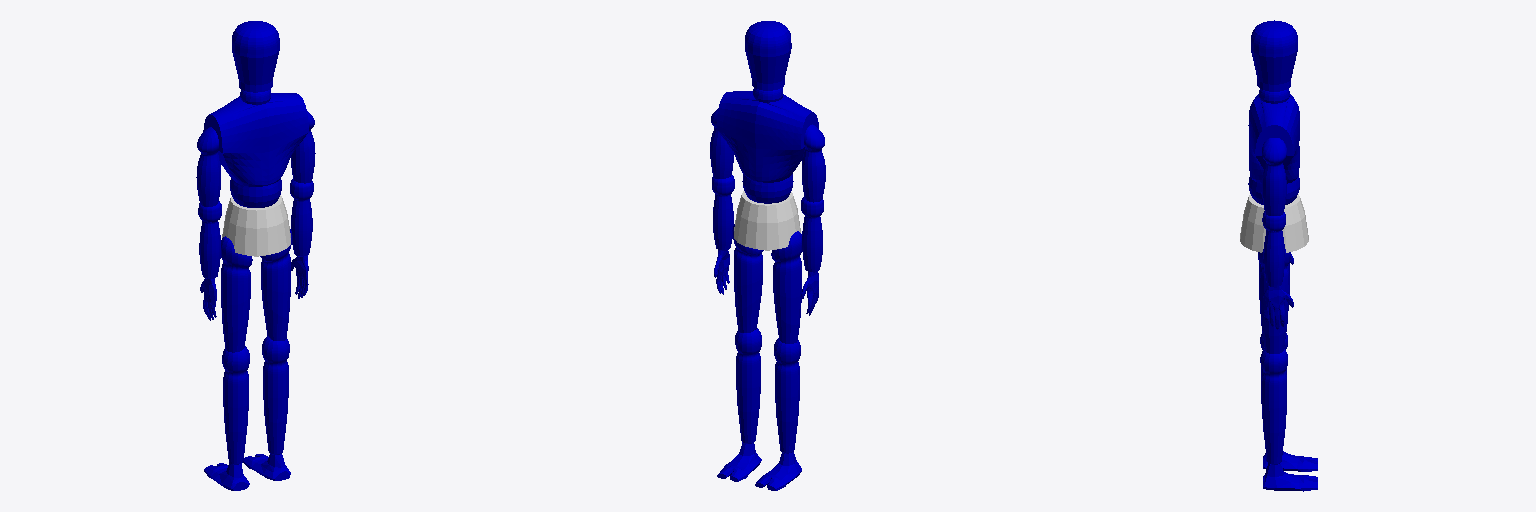
--- Facts derived from the render (not from the file) ---
3 views of the same robot in one strip: view 1: azimuth 30°, elevation 25°; view 2: azimuth 150°, elevation 25°; view 3: azimuth 270°, elevation 25° (orthographic).
Robot: human_cio — 49 links, 48 joints (8 revolute, 39 continuous, 1 fixed); root link root_link; default pose: all joints at 0.
Links seen in each view (by area): view 1: torso_x_link, head_x_link, pelvis_link, upper_left_leg_x_link, lower_right_leg_link, lower_left_leg_link, upper_right_leg_x_link, upper_left_arm_x_link, lower_right_arm_link, lower_left_arm_link, upper_right_arm_x_link, right_foot_z_link (+1 smaller); view 2: torso_x_link, head_x_link, pelvis_link, upper_left_leg_x_link, lower_right_leg_link, lower_left_leg_link, upper_right_leg_x_link, upper_left_arm_x_link, lower_right_arm_link, lower_left_arm_link, upper_right_arm_x_link, left_foot_z_link (+1 smaller); view 3: torso_x_link, head_x_link, lower_right_leg_link, pelvis_link, upper_right_arm_x_link, lower_right_arm_link, upper_right_leg_x_link, right_foot_z_link, right_hand_x_link, left_foot_z_link.
Link boxes in pixels (x1,y1,x2,y2): torso_x_link: (203,93,308,207); head_x_link: (232,21,279,104); pelvis_link: (222,195,290,256); upper_left_leg_x_link: (221,236,252,352); lower_right_leg_link: (262,337,289,454); lower_left_leg_link: (222,346,249,464); upper_right_leg_x_link: (260,229,291,340); upper_left_arm_x_link: (196,127,220,206); lower_right_arm_link: (290,179,313,256); lower_left_arm_link: (198,201,221,278); upper_right_arm_x_link: (291,111,315,183); right_foot_z_link: (243,454,290,480); torso_x_link: (716,91,818,203); head_x_link: (745,21,791,102); pelvis_link: (734,191,800,250); upper_left_leg_x_link: (771,231,801,343); lower_right_leg_link: (735,328,761,443); lower_left_leg_link: (774,338,800,453); upper_right_leg_x_link: (732,224,763,332); upper_left_arm_x_link: (802,124,825,202); lower_right_arm_link: (712,175,734,250); lower_left_arm_link: (801,197,823,272); upper_right_arm_x_link: (710,109,733,178); left_foot_z_link: (755,452,801,490); torso_x_link: (1248,94,1299,204); head_x_link: (1251,20,1297,103); lower_right_leg_link: (1260,348,1287,464); pelvis_link: (1240,194,1308,252); upper_right_arm_x_link: (1262,138,1286,215); lower_right_arm_link: (1262,211,1285,287); upper_right_leg_x_link: (1258,249,1290,353); right_foot_z_link: (1263,463,1317,491); right_hand_x_link: (1263,285,1293,329); left_foot_z_link: (1263,451,1317,471).
Bounding box of the posed robot: 0.582 × 0.3519 × 2.2 m (x, y, z).
15 mesh visuals loaded from 15 distinct referenced files (15 Collada DAE).

robot.urdf — human_cio:
<?xml version="1.0" ?>
<!-- =================================================================================== -->
<!-- |    This document was autogenerated by xacro from human_cio.urdf.xacro           | -->
<!-- |    EDITING THIS FILE BY HAND IS NOT RECOMMENDED                                 | -->
<!-- =================================================================================== -->
<robot name="human_cio" xmlns:controller="http://playerstage.sourceforge.net/gazebo/xmlschema/#controller" xmlns:interface="http://playerstage.sourceforge.net/gazebo/xmlschema/#interface" xmlns:sensor="http://playerstage.sourceforge.net/gazebo/xmlschema/#sensor" xmlns:xacro="http://playerstage.sourceforge.net/gazebo/xmlschema/#interface">
  <material name="Blue">
    <color rgba="0.0 0.0 0.8 1.0"/>
  </material>
  <material name="Green">
    <color rgba="0.0 0.8 0.0 1.0"/>
  </material>
  <material name="Grey">
    <color rgba="0.7 0.7 0.7 1.0"/>
  </material>
  <material name="Grey2">
    <color rgba="0.9 0.9 0.9 1.0"/>
  </material>
  <material name="Red">
    <color rgba="0.8 0.0 0.0 1.0"/>
  </material>
  <material name="White">
    <color rgba="1.0 1.0 1.0 1.0"/>
  </material>
  <material name="Black">
    <color rgba="0.1 0.1 0.1 1.0"/>
  </material>
  <material name="LightGrey">
    <color rgba="0.6 0.6 0.6 1.0"/>
  </material>
  <link name="root_link"/>

  <joint name="root_dummy_joint" type="fixed">
    <parent link="root_link"/>
    <child link="pelvis_link"/>
  </joint>

  <link name="pelvis_link">
    <visual>
      <origin rpy="0 0 0" xyz="0 0 0"/>
      <geometry>
        <mesh filename="package://human_description/meshes/pelvis.dae"/>
      </geometry>
      <material name="Grey2"/>
    </visual>
    <collision>
      <origin rpy="0 0 0" xyz="0 0 0"/>
      <geometry>
        <mesh filename="package://human_description/meshes/collision/pelvis.dae"/>
      </geometry>
    </collision>
    <inertial>
      <mass value="24.9873014159"/>
      <inertia ixx="0.219399825" ixy="0.0" ixz="0.0" iyy="0.21939959375" iyz="0.0" izz="0.22992248625"/>
      <origin xyz="0 0 0.0983925"/>
    </inertial>
  </link>
  <joint name="torso_z_joint" type="continuous">
    <axis xyz="0 0 1"/>
    <limit effort="15" lower="-0.7" upper="0.7" velocity="5"/>
    <origin rpy="0 0 0" xyz="0 0 0.26"/>
    <parent link="pelvis_link"/>
    <child link="torso_z_link"/>
  </joint>
  <joint name="torso_y_joint" type="continuous">
    <axis xyz="0 1 0"/>
    <limit effort="15" lower="-0.3" upper="0.3" velocity="5"/>
    <origin rpy="0 0 0" xyz="0 0 0"/>
    <parent link="torso_z_link"/>
    <child link="torso_y_link"/>
  </joint>
  <joint name="torso_x_joint" type="continuous">
    <axis xyz="1 0 0"/>
    <limit effort="15" lower="-1.0" upper="0" velocity="5"/>
    <origin rpy="0 0 0" xyz="0 0 0"/>
    <parent link="torso_y_link"/>
    <child link="torso_x_link"/>
  </joint>
  <link name="torso_z_link">
    <inertial>
      <mass value="0"/>
      <inertia ixx="1" ixy="0" ixz="0" iyy="1" iyz="0" izz="0"/>
      <origin xyz="0 0 0"/>
    </inertial>
  </link>
  <link name="torso_y_link">
    <inertial>
      <mass value="0"/>
      <inertia ixx="1" ixy="0" ixz="0" iyy="1" iyz="0" izz="0"/>
      <origin xyz="0 0 0"/>
    </inertial>
  </link>
  <link name="torso_x_link">
    <visual>
      <origin rpy="0 0 0" xyz="0 0 0"/>
      <geometry>
        <mesh filename="package://human_description/meshes/torso.dae"/>
      </geometry>
      <material name="Blue"/>
    </visual>
    <collision>
      <origin rpy="0 0 0" xyz="0 0 0"/>
      <geometry>
        <mesh filename="package://human_description/meshes/collision/torso.dae"/>
      </geometry>
    </collision>
    <inertial>
      <mass value="54.1902903318"/>
      <inertia ixx="1.0895931125" ixy="0.0" ixz="0" iyy="1.4490895525" iyz="0.0" izz="0.679463005"/>
      <origin xyz="0 0 0.22608234"/>
    </inertial>
  </link>
  <joint name="head_z_joint" type="continuous">
    <axis xyz="0 0 1"/>
    <limit effort="15" lower="-1.2" upper="1.2" velocity="5"/>
    <origin rpy="0 0 0" xyz="0 0 0.45"/>
    <parent link="torso_x_link"/>
    <child link="head_z_link"/>
  </joint>
  <joint name="head_y_joint" type="continuous">
    <axis xyz="0 1 0"/>
    <limit effort="15" lower="-0.8" upper="0.8" velocity="5"/>
    <origin rpy="0 0 0" xyz="0 0 0"/>
    <parent link="head_z_link"/>
    <child link="head_y_link"/>
  </joint>
  <joint name="head_x_joint" type="continuous">
    <axis xyz="1 0 0"/>
    <limit effort="15" lower="-1.57" upper="0.3" velocity="5"/>
    <origin rpy="0 0 0" xyz="0 0 0"/>
    <parent link="head_y_link"/>
    <child link="head_x_link"/>
  </joint>
  <link name="head_z_link">
    <inertial>
      <mass value="0"/>
      <inertia ixx="1" ixy="0" ixz="0" iyy="1" iyz="0" izz="0"/>
      <origin xyz="0 0 0"/>
    </inertial>
  </link>
  <link name="head_y_link">
    <inertial>
      <mass value="0"/>
      <inertia ixx="1" ixy="0" ixz="0" iyy="1" iyz="0" izz="0"/>
      <origin xyz="0 0 0"/>
    </inertial>
  </link>
  <link name="head_x_link">
    <visual>
      <origin rpy="0 0 0" xyz="0 0 0"/>
      <geometry>
        <mesh filename="package://human_description/meshes/head.dae"/>
      </geometry>
      <material name="Blue"/>
    </visual>
    <collision>
      <origin rpy="0 0 0" xyz="0 0 0"/>
      <geometry>
        <mesh filename="package://human_description/meshes/collision/head.dae"/>
      </geometry>
    </collision>
    <inertial>
      <mass value="16.0164526852"/>
      <inertia ixx="0.194835825625" ixy="0" ixz="0" iyy="0.194835733125" iyz="0" izz="0.06426014890625"/>
      <origin xyz="0.0 0.0 0.18566523"/>
    </inertial>
  </link>
  <joint name="head_endeffector_joint" type="continuous">
    <axis xyz="0 0 1"/>
    <limit effort="15" lower="-0.001" upper="0.001" velocity="5"/>
    <origin rpy="0 0 0" xyz="0 0 0.3"/>
    <parent link="head_x_link"/>
    <child link="head_endeffector_link"/>
  </joint>
  <link name="head_endeffector_link">
    <visual>
      <origin rpy="0 0 0" xyz="0 0 0"/>
      <geometry>
        <box size="0.001 0.001 0.001"/>
      </geometry>
      <material name="Blue"/>
    </visual>
    <collision>
      <origin rpy="0 0 0" xyz="0 0 0"/>
      <geometry>
        <box size="0.001 0.001 0.001"/>
      </geometry>
    </collision>
  </link>
  <joint name="upper_left_leg_z_joint" type="continuous">
    <axis xyz="0 0 1"/>
    <!--    <limit effort="15" lower="-1.57" upper="1.57" velocity="5"/>-->
    <limit effort="15" lower="-0.1" upper="1.57" velocity="5"/>
    <!--    <limit effort="15" lower="0" upper="0" velocity="5"/>-->
    <origin rpy="0 0 0" xyz="-0.1 0 0"/>
    <parent link="pelvis_link"/>
    <child link="upper_left_leg_z_link"/>
  </joint>
  <joint name="upper_left_leg_y_joint" type="continuous">
    <axis xyz="0 1 0"/>
    <!--    <limit effort="15" lower="-1.57" upper="1.57" velocity="5"/>-->
    <limit effort="15" lower="-0.1" upper="1.57" velocity="5"/>
    <!--    <limit effort="15" lower="0" upper="0" velocity="5"/>-->
    <origin rpy="0 0 0" xyz="0 0 0"/>
    <parent link="upper_left_leg_z_link"/>
    <child link="upper_left_leg_y_link"/>
  </joint>
  <joint name="upper_left_leg_x_joint" type="continuous">
    <axis xyz="1 0 0"/>
    <limit effort="15" lower="-1.2" upper="1.57" velocity="5"/>
    <origin rpy="0 0 0" xyz="0 0 0"/>
    <parent link="upper_left_leg_y_link"/>
    <child link="upper_left_leg_x_link"/>
  </joint>
  <link name="upper_left_leg_z_link">
    <inertial>
      <mass value="0"/>
      <inertia ixx="1" ixy="0" ixz="0" iyy="1" iyz="0" izz="0"/>
      <origin xyz="0 0 0"/>
    </inertial>
  </link>
  <link name="upper_left_leg_y_link">
    <inertial>
      <mass value="0"/>
      <inertia ixx="1" ixy="0" ixz="0" iyy="1" iyz="0" izz="0"/>
      <origin xyz="0 0 0"/>
    </inertial>
  </link>
  <link name="upper_left_leg_x_link">
    <visual>
      <origin rpy="0 0 0" xyz="0 0 0"/>
      <geometry>
        <mesh filename="package://human_description/meshes/upperLeftLeg.dae"/>
      </geometry>
      <material name="Blue"/>
    </visual>
    <collision>
      <origin rpy="0 0 0" xyz="0 0 0"/>
      <geometry>
        <mesh filename="package://human_description/meshes/collision/upperLeftLeg.dae"/>
      </geometry>
    </collision>
    <inertial>
      <mass value="11.28066677275"/>
      <inertia ixx="0.258606759375" ixy="0.0" ixz="0.0" iyy="0.258311314375" iyz="0" izz="0.021073428046875"/>
      <origin xyz="0 0 -0.19"/>
    </inertial>
  </link>
  <joint name="lower_left_leg_joint" type="continuous">
    <axis xyz="1 0 0"/>
    <limit effort="15" lower="-2.4" upper="0" velocity="5"/>
    <origin rpy="0 0 0" xyz="0 0 -0.5"/>
    <parent link="upper_left_leg_x_link"/>
    <child link="lower_left_leg_link"/>
  </joint>
  <link name="lower_left_leg_link">
    <visual>
      <origin rpy="0 0 0" xyz="0 0 0"/>
      <geometry>
        <mesh filename="package://human_description/meshes/lowerLeftLeg.dae"/>
      </geometry>
      <material name="Blue"/>
    </visual>
    <collision>
      <origin rpy="0 0 0" xyz="0 0 0"/>
      <geometry>
        <mesh filename="package://human_description/meshes/collision/lowerLeftLeg.dae"/>
      </geometry>
    </collision>
    <inertial>
      <mass value="8.394054321"/>
      <inertia ixx="0.1879741409375" ixy="0.0" ixz="0" iyy="0.1879741525" iyz="0" izz="0.01166299402353"/>
      <origin xyz="0.0 0 -0.20"/>
    </inertial>
  </link>
  <joint name="left_foot_x_joint" type="continuous">
    <axis xyz="1 0 0"/>
    <limit effort="15" lower="-1.57" upper="1.57" velocity="5"/>
    <!--    <limit effort="15" lower="-0.8" upper="0.6" velocity="5"/>-->
    <origin rpy="0 0 0" xyz="0 0 -0.52"/>
    <parent link="lower_left_leg_link"/>
    <child link="left_foot_x_link"/>
  </joint>
  <joint name="left_foot_y_joint" type="continuous">
    <axis xyz="0 1 0"/>
    <limit effort="15" lower="-1.57" upper="1.57" velocity="5"/>
    <!--    <limit effort="15" lower="0" upper="0" velocity="5"/>-->
    <origin rpy="0 0 0" xyz="0 0 0"/>
    <parent link="left_foot_x_link"/>
    <child link="left_foot_y_link"/>
  </joint>
  <joint name="left_foot_z_joint" type="continuous">
    <axis xyz="0 0 1"/>
    <!--    <limit effort="15" lower="-0.2" upper="0.2" velocity="5"/>-->
    <limit effort="15" lower="0" upper="0" velocity="5"/>
    <origin rpy="0 0 0" xyz="0 0 0"/>
    <parent link="left_foot_y_link"/>
    <child link="left_foot_z_link"/>
  </joint>
  <link name="left_foot_x_link">
    <inertial>
      <mass value="0"/>
      <inertia ixx="1" ixy="0" ixz="0" iyy="1" iyz="0" izz="0"/>
      <origin xyz="0 0 0"/>
    </inertial>
  </link>
  <link name="left_foot_y_link">
    <inertial>
      <mass value="0"/>
      <inertia ixx="1" ixy="0" ixz="0" iyy="1" iyz="0" izz="0"/>
      <origin xyz="0 0 0"/>
    </inertial>
  </link>
  <link name="left_foot_z_link">
    <visual>
      <origin rpy="0 0 0" xyz="0 0 0"/>
      <geometry>
        <mesh filename="package://human_description/meshes/leftFoot.dae"/>
      </geometry>
      <material name="Blue"/>
    </visual>
    <collision>
      <origin rpy="0 0 0" xyz="0 0 0"/>
      <geometry>
        <mesh filename="package://human_description/meshes/collision/leftFoot.dae"/>
      </geometry>
    </collision>
    <inertial>
      <mass value="2.24629475115"/>
      <inertia ixx="0.00997119431636" ixy="0" ixz="0.0" iyy="0.00325251065432" iyz="0.00" izz="0.01040399675772"/>
      <origin xyz="0 0 0"/>
    </inertial>
  </link>
  <joint name="left_foot_endeffector_joint" type="continuous">
    <axis xyz="0 0 1"/>
    <limit effort="15" lower="0" upper="0" velocity="5"/>
    <origin rpy="0 0 0" xyz="0 0 -0.1"/>
    <parent link="left_foot_z_link"/>
    <child link="left_foot_endeffector_link"/>
  </joint>
  <link name="left_foot_endeffector_link">
    <visual>
      <origin rpy="0 0 0" xyz="0 0 0"/>
      <geometry>
        <box size="0.001 0.001 0.001"/>
      </geometry>
      <material name="Blue"/>
    </visual>
    <inertial>
      <mass value="0"/>
      <inertia ixx="1" ixy="0" ixz="0" iyy="1" iyz="0" izz="0"/>
      <origin xyz="0 0 0"/>
    </inertial>
  </link>
  

  <joint name="upper_right_leg_z_joint" type="continuous">
    <axis xyz="0 0 1"/>
    <!--    <limit effort="15" lower="-1.57" upper="1.57" velocity="5"/>-->
    <limit effort="15" lower="-1.57" upper="0.1" velocity="5"/>
    <!--    <limit effort="15" lower="0" upper="0" velocity="5"/>-->
    <origin rpy="0 0 0" xyz="0.1 0 0"/>
    <parent link="pelvis_link"/>
    <child link="upper_right_leg_z_link"/>
  </joint>
  <joint name="upper_right_leg_y_joint" type="continuous">
    <axis xyz="0 1 0"/>
    <!--    <limit effort="15" lower="-1.57" upper="1.57" velocity="5"/>-->
    <limit effort="15" lower="-1.57" upper="0.1" velocity="5"/>
    <!--    <limit effort="15" lower="0" upper="0" velocity="5"/>-->
    <origin rpy="0 0 0" xyz="0 0 0"/>
    <parent link="upper_right_leg_z_link"/>
    <child link="upper_right_leg_y_link"/>
  </joint>
  <joint name="upper_right_leg_x_joint" type="continuous">
    <axis xyz="1 0 0"/>
    <limit effort="15" lower="-1.2" upper="1.57" velocity="5"/>
    <origin rpy="0 0 0" xyz="0 0 0"/>
    <parent link="upper_right_leg_y_link"/>
    <child link="upper_right_leg_x_link"/>
  </joint>
  <link name="upper_right_leg_z_link">
    <inertial>
      <mass value="0"/>
      <inertia ixx="1" ixy="0" ixz="0" iyy="1" iyz="0" izz="0"/>
      <origin xyz="0 0 0"/>
    </inertial>
  </link>
  <link name="upper_right_leg_y_link">
    <inertial>
      <mass value="0"/>
      <inertia ixx="1" ixy="0" ixz="0" iyy="1" iyz="0" izz="0"/>
      <origin xyz="0 0 0"/>
    </inertial>
  </link>
  <link name="upper_right_leg_x_link">
    <visual>
      <origin rpy="0 0 0" xyz="0 0 0"/>
      <geometry>
        <mesh filename="package://human_description/meshes/upperRightLeg.dae"/>
      </geometry>
      <material name="Blue"/>
    </visual>
    <collision>
      <origin rpy="0 0 0" xyz="0 0 0"/>
      <geometry>
        <mesh filename="package://human_description/meshes/collision/upperRightLeg.dae"/>
      </geometry>
    </collision>
    <inertial>
      <mass value="11.28066677275"/>
      <inertia ixx="0.258606759375" ixy="0" ixz="0" iyy="0.258311314375" iyz="0" izz="0.021073428046875"/>
      <origin xyz="0 0 -0.19"/>
    </inertial>
  </link>
  <joint name="lower_right_leg_joint" type="continuous">
    <axis xyz="1 0 0"/>
    <limit effort="15" lower="-2.4" upper="0" velocity="5"/>
    <origin rpy="0 0 0" xyz="0 0 -0.5"/>
    <parent link="upper_right_leg_x_link"/>
    <child link="lower_right_leg_link"/>
  </joint>
  <link name="lower_right_leg_link">
    <visual>
      <origin rpy="0 0 0" xyz="0 0 0"/>
      <geometry>
        <mesh filename="package://human_description/meshes/lowerRightLeg.dae"/>
      </geometry>
      <material name="Blue"/>
    </visual>
    <collision>
      <origin rpy="0 0 0" xyz="0 0 0"/>
      <geometry>
        <mesh filename="package://human_description/meshes/collision/lowerRightLeg.dae"/>
      </geometry>
    </collision>
    <inertial>
      <mass value="8.394054321"/>
      <inertia ixx="0.1879741409375" ixy="0" ixz="0" iyy="0.1879741525" iyz="0" izz="0.01166299402353"/>
      <origin xyz="0.0 0 -0.20"/>
    </inertial>
  </link>
  <joint name="right_foot_x_joint" type="continuous">
    <axis xyz="1 0 0"/>
    <limit effort="15" lower="-1.57" upper="1.57" velocity="5"/>
    <!--    <limit effort="15" lower="-0.8" upper="0.6" velocity="5"/>-->
    <origin rpy="0 0 0" xyz="0 0 -0.52"/>
    <parent link="lower_right_leg_link"/>
    <child link="right_foot_x_link"/>
  </joint>
  <joint name="right_foot_y_joint" type="continuous">
    <axis xyz="0 1 0"/>
    <limit effort="15" lower="-1.57" upper="1.57" velocity="5"/>
    <!--    <limit effort="15" lower="0" upper="0" velocity="5"/>-->
    <origin rpy="0 0 0" xyz="0 0 0"/>
    <parent link="right_foot_x_link"/>
    <child link="right_foot_y_link"/>
  </joint>
  <joint name="right_foot_z_joint" type="continuous">
    <axis xyz="0 0 1"/>
    <!--    <limit effort="15" lower="-0.2" upper="0.2" velocity="5"/>-->
    <limit effort="15" lower="0" upper="0" velocity="5"/>
    <origin rpy="0 0 0" xyz="0 0 0"/>
    <parent link="right_foot_y_link"/>
    <child link="right_foot_z_link"/>
  </joint>
  <link name="right_foot_x_link">
    <inertial>
      <mass value="0"/>
      <inertia ixx="1" ixy="0" ixz="0" iyy="1" iyz="0" izz="0"/>
      <origin xyz="0 0 0"/>
    </inertial>
  </link>
  <link name="right_foot_y_link">
    <inertial>
      <mass value="0"/>
      <inertia ixx="1" ixy="0" ixz="0" iyy="1" iyz="0" izz="0"/>
      <origin xyz="0 0 0"/>
    </inertial>
  </link>
  <link name="right_foot_z_link">
    <visual>
      <origin rpy="0 0 0" xyz="0 0 0"/>
      <geometry>
        <mesh filename="package://human_description/meshes/rightFoot.dae"/>
      </geometry>
      <material name="Blue"/>
    </visual>
    <collision>
      <origin rpy="0 0 0" xyz="0 0 0"/>
      <geometry>
        <mesh filename="package://human_description/meshes/collision/rightFoot.dae"/>
      </geometry>
    </collision>
    <inertial>
      <mass value="2.24629475115"/>
      <inertia ixx="0.00997119287114" ixy="0" ixz="0" iyy="0.00325251065432" iyz="0.0" izz="0.01040399675772"/>
      <origin xyz="0 0 0"/>
    </inertial>
  </link>
  <joint name="right_foot_endeffector_joint" type="continuous">
    <axis xyz="0 0 1"/>
    <limit effort="15" lower="0" upper="0" velocity="5"/>
    <origin rpy="0 0 0" xyz="0 0 -0.1"/>
    <parent link="right_foot_z_link"/>
    <child link="right_foot_endeffector_link"/>
  </joint>
  <link name="right_foot_endeffector_link">
    <visual>
      <origin rpy="0 0 0" xyz="0 0 0"/>
      <geometry>
        <box size="0.001 0.001 0.001"/>
      </geometry>
      <material name="Blue"/>
    </visual>
    <inertial>
      <mass value="0"/>
      <inertia ixx="1" ixy="0" ixz="0" iyy="1" iyz="0" izz="0"/>
      <origin xyz="0 0 0"/>
    </inertial>
  </link>



  <joint name="upper_left_arm_z_joint" type="continuous">
    <axis xyz="0 0 1"/>
    <limit effort="15" lower="-0.5" upper="0.5" velocity="5"/>
    <origin rpy="0 0 0" xyz="-0.23 0 0.33"/>
    <parent link="torso_x_link"/>
    <child link="upper_left_arm_z_link"/>
  </joint>
  <joint name="upper_left_arm_y_joint" type="continuous">
    <axis xyz="0 1 0"/>
    <limit effort="15" lower="0.0" upper="3.14" velocity="5"/>
    <origin rpy="0 0 0" xyz="0 0 0"/>
    <parent link="upper_left_arm_z_link"/>
    <child link="upper_left_arm_y_link"/>
  </joint>
  <joint name="upper_left_arm_x_joint" type="continuous">
    <axis xyz="1 0 0"/>
    <limit effort="15" lower="-1.0" upper="3.14" velocity="5"/>
    <origin rpy="0 0 0" xyz="0 0 0"/>
    <parent link="upper_left_arm_y_link"/>
    <child link="upper_left_arm_x_link"/>
  </joint>
  <link name="upper_left_arm_z_link">
    <inertial>
      <mass value="0"/>
      <inertia ixx="1" ixy="0" ixz="0" iyy="1" iyz="0" izz="0"/>
      <origin xyz="0 0 0"/>
    </inertial>
  </link>
  <link name="upper_left_arm_y_link">
    <inertial>
      <mass value="0"/>
      <inertia ixx="1" ixy="0" ixz="0" iyy="1" iyz="0" izz="0"/>
      <origin xyz="0 0 0"/>
    </inertial>
  </link>
  <link name="upper_left_arm_x_link">
    <visual>
      <origin rpy="0 0 0" xyz="0 0 0"/>
      <geometry>
        <mesh filename="package://human_description/meshes/upperLeftArm.dae"/>
      </geometry>
      <material name="Blue"/>
    </visual>
    <collision>
      <origin rpy="0 0 0" xyz="0 0 0"/>
      <geometry>
        <mesh filename="package://human_description/meshes/collision/upperLeftArm.dae"/>
      </geometry>
    </collision>
    <inertial>
      <mass value="5.0428574576"/>
      <inertia ixx="0.05868383265625" ixy="0" ixz="0" iyy="0.05870381265625" iyz="0" izz="0.006071859706985"/>
      <origin xyz="0 0 -0.17"/>
    </inertial>
  </link>
  <joint name="lower_left_arm_joint" type="continuous">
    <axis xyz="1 0 0"/>
    <limit effort="15" lower="0" upper="3.14" velocity="5"/>
    <origin rpy="0 0 0" xyz="0 0 -0.35"/>
    <parent link="upper_left_arm_x_link"/>
    <child link="lower_left_arm_link"/>
  </joint>
  <link name="lower_left_arm_link">
    <visual>
      <origin rpy="0 0 0" xyz="0 0 0"/>
      <geometry>
        <mesh filename="package://human_description/meshes/lowerLeftArm.dae"/>
      </geometry>
      <material name="Blue"/>
    </visual>
    <collision>
      <origin rpy="0 0 0" xyz="0 0 0"/>
      <geometry>
        <mesh filename="package://human_description/meshes/collision/lowerLeftArm.dae"/>
      </geometry>
    </collision>
    <inertial>
      <mass value="4.1174112191"/>
      <inertia ixx="0.046870596953125" ixy="0" ixz="0" iyy="0.0468705940625" iyz="0" izz="0.00412573450193"/>
      <origin xyz="0.0 0.0 -0.14"/>
    </inertial>
  </link>
  <joint name="left_hand_z_joint" type="continuous">
    <axis xyz="0 0 1"/>
    <limit effort="15" lower="-1.0" upper="1.0" velocity="5"/>
    <origin rpy="0 0 0" xyz="0 0 -0.35"/>
    <parent link="lower_left_arm_link"/>
    <child link="left_hand_z_link"/>
  </joint>
  <joint name="left_hand_y_joint" type="continuous">
    <axis xyz="0 1 0"/>
    <limit effort="15" lower="-1.3" upper="1.5" velocity="5"/>
    <origin rpy="0 0 0" xyz="0 0 0"/>
    <parent link="left_hand_z_link"/>
    <child link="left_hand_y_link"/>
  </joint>
  <joint name="left_hand_x_joint" type="continuous">
    <axis xyz="1 0 0"/>
    <limit effort="15" lower="-0.5" upper="1.4" velocity="5"/>
    <origin rpy="0 0 0" xyz="0 0 0"/>
    <parent link="left_hand_y_link"/>
    <child link="left_hand_x_link"/>
  </joint>
  <link name="left_hand_z_link">
    <inertial>
      <mass value="0"/>
      <inertia ixx="1" ixy="0" ixz="0" iyy="1" iyz="0" izz="0"/>
      <origin xyz="0 0 0"/>
    </inertial>
  </link>
  <link name="left_hand_y_link">
    <inertial>
      <mass value="0"/>
      <inertia ixx="1" ixy="0" ixz="0" iyy="1" iyz="0" izz="0"/>
      <origin xyz="0 0 0"/>
    </inertial>
  </link>
  <link name="left_hand_x_link">
    <visual>
      <!--      <origin rpy="0 1.57 -1.57" xyz="0 0 0"/>-->
      <origin rpy="0 0 0" xyz="0 0 0"/>
      <geometry>
        <mesh filename="package://human_description/meshes/leftHand.dae"/>
      </geometry>
      <material name="Blue"/>
    </visual>
    <collision>
      <!--      <origin rpy="0 1.57 -1.57" xyz="0 0 0"/>-->
      <origin rpy="0 0 0" xyz="0 0 0"/>
      <geometry>
        <mesh filename="package://human_description/meshes/collision/leftHand.dae"/>
      </geometry>
    </collision>
    <inertial>
      <mass value="0.5669499677"/>
      <inertia ixx="0.00201160057137" ixy="0" ixz="0" iyy="0.00161538206057" iyz="0.0" izz="0.00044905660648"/>
      <origin xyz="0 0 0"/>
    </inertial>
  </link>
  <joint name="left_hand_endeffector_joint" type="continuous">
    <axis xyz="0 0 1"/>
    <limit effort="15" lower="-0.001" upper="0.001" velocity="5"/>
    <origin rpy="0 0 0" xyz="0 0 0"/>
    <parent link="left_hand_x_link"/>
    <child link="left_hand_endeffector_link"/>
  </joint>
  <link name="left_hand_endeffector_link">
    <visual>
      <origin rpy="0 0 0" xyz="0 0 0"/>
      <geometry>
        <box size="0.001 0.001 0.001"/>
      </geometry>
      <material name="Blue"/>
    </visual>
    <collision>
      <origin rpy="0 0 0" xyz="0 0 0"/>
      <geometry>
        <box size="0.001 0.001 0.001"/>
      </geometry>
    </collision>
    <inertial>
      <mass value="0"/>
      <inertia ixx="1" ixy="0" ixz="0" iyy="1" iyz="0" izz="0"/>
      <origin xyz="0 0 0"/>
    </inertial>
  </link>
  <joint name="upper_right_arm_z_joint" type="continuous">
    <axis xyz="0 0 1"/>
    <limit effort="15" lower="-0.5" upper="0.5" velocity="5"/>
    <origin rpy="0 0 0" xyz="0.23 0 0.33"/>
    <parent link="torso_x_link"/>
    <child link="upper_right_arm_z_link"/>
  </joint>
  <joint name="upper_right_arm_y_joint" type="continuous">
    <axis xyz="0 1 0"/>
    <limit effort="15" lower="-3.14" upper="0.0" velocity="5"/>
    <origin rpy="0 0 0" xyz="0 0 0"/>
    <parent link="upper_right_arm_z_link"/>
    <child link="upper_right_arm_y_link"/>
  </joint>
  <joint name="upper_right_arm_x_joint" type="continuous">
    <axis xyz="1 0 0"/>
    <limit effort="15" lower="-1.0" upper="3.14" velocity="5"/>
    <origin rpy="0 0 0" xyz="0 0 0"/>
    <parent link="upper_right_arm_y_link"/>
    <child link="upper_right_arm_x_link"/>
  </joint>
  <link name="upper_right_arm_z_link">
    <inertial>
      <mass value="0"/>
      <inertia ixx="1" ixy="0" ixz="0" iyy="1" iyz="0" izz="0"/>
      <origin xyz="0 0 0"/>
    </inertial>
  </link>
  <link name="upper_right_arm_y_link">
    <inertial>
      <mass value="0"/>
      <inertia ixx="1" ixy="0" ixz="0" iyy="1" iyz="0" izz="0"/>
      <origin xyz="0 0 0"/>
    </inertial>
  </link>
  <link name="upper_right_arm_x_link">
    <visual>
      <origin rpy="0 0 0" xyz="0 0 0"/>
      <geometry>
        <mesh filename="package://human_description/meshes/upperRightArm.dae"/>
      </geometry>
      <material name="Blue"/>
    </visual>
    <collision>
      <origin rpy="0 0 0" xyz="0 0 0"/>
      <geometry>
        <mesh filename="package://human_description/meshes/collision/upperRightArm.dae"/>
      </geometry>
    </collision>
    <inertial>
      <mass value="5.0428574576"/>
      <inertia ixx="0.05868383265625" ixy="0.0" ixz="0.0" iyy="0.05870381265625" iyz="0" izz="0.006071859706985"/>
      <origin xyz="0 0 -0.17"/>
    </inertial>
  </link>
  <joint name="lower_right_arm_joint" type="continuous">
    <axis xyz="1 0 0"/>
    <limit effort="15" lower="0" upper="3.14" velocity="5"/>
    <origin rpy="0 0 0" xyz="0 0 -0.35"/>
    <parent link="upper_right_arm_x_link"/>
    <child link="lower_right_arm_link"/>
  </joint>
  <link name="lower_right_arm_link">
    <visual>
      <origin rpy="0 0 0" xyz="0 0 0"/>
      <geometry>
        <mesh filename="package://human_description/meshes/lowerRightArm.dae"/>
      </geometry>
      <material name="Blue"/>
    </visual>
    <collision>
      <origin rpy="0 0 0" xyz="0 0 0"/>
      <geometry>
        <mesh filename="package://human_description/meshes/collision/lowerRightArm.dae"/>
      </geometry>
    </collision>
    <inertial>
      <mass value="4.1174112191"/>
      <inertia ixx="0.046870596953125" ixy="0" ixz="0" iyy="0.0468705940625" iyz="0" izz="0.00412573450193"/>
      <origin xyz="0.0 0.0 -0.14"/>
    </inertial>
  </link>
  <joint name="right_hand_z_joint" type="continuous">
    <axis xyz="0 0 1"/>
    <limit effort="15" lower="-1.0" upper="1.0" velocity="5"/>
    <origin rpy="0 0 0" xyz="0 0 -0.35"/>
    <parent link="lower_right_arm_link"/>
    <child link="right_hand_z_link"/>
  </joint>
  <joint name="right_hand_y_joint" type="continuous">
    <axis xyz="0 1 0"/>
    <limit effort="15" lower="-1.5" upper="1.3" velocity="5"/>
    <origin rpy="0 0 0" xyz="0 0 0"/>
    <parent link="right_hand_z_link"/>
    <child link="right_hand_y_link"/>
  </joint>
  <joint name="right_hand_x_joint" type="continuous">
    <axis xyz="1 0 0"/>
    <limit effort="15" lower="-0.5" upper="1.4" velocity="5"/>
    <origin rpy="0 0 0" xyz="0 0 0"/>
    <parent link="right_hand_y_link"/>
    <child link="right_hand_x_link"/>
  </joint>
  <link name="right_hand_z_link">
    <inertial>
      <mass value="0"/>
      <inertia ixx="1" ixy="0" ixz="0" iyy="1" iyz="0" izz="0"/>
      <origin xyz="0 0 0"/>
    </inertial>
  </link>
  <link name="right_hand_y_link">
    <inertial>
      <mass value="0"/>
      <inertia ixx="1" ixy="0" ixz="0" iyy="1" iyz="0" izz="0"/>
      <origin xyz="0 0 0"/>
    </inertial>
  </link>
  <link name="right_hand_x_link">
    <visual>
      <!--      <origin rpy="0 -1.57 1.57" xyz="0 0 0"/>-->
      <origin rpy="0 0 0" xyz="0 0 0"/>
      <geometry>
        <mesh filename="package://human_description/meshes/rightHand.dae"/>
      </geometry>
      <material name="Blue"/>
    </visual>
    <collision>
      <!--      <origin rpy="0 -1.57 1.57" xyz="0 0 0"/>-->
      <origin rpy="0 0 0" xyz="0 0 0"/>
      <geometry>
        <mesh filename="package://human_description/meshes/collision/rightHand.dae"/>
      </geometry>
    </collision>
    <inertial>
      <mass value="0.5669499677"/>
      <inertia ixx="0.00201160057137" ixy="0.0" ixz="0.0" iyy="0.00161538206057" iyz="0.0" izz="0.00044905660648"/>
      <origin xyz="0 0 0"/>
    </inertial>
  </link>
  <joint name="right_hand_endeffector_joint" type="continuous">
    <axis xyz="0 0 1"/>
    <limit effort="15" lower="-0.001" upper="0.001" velocity="5"/>
    <origin rpy="0 0 0" xyz="0 0 0"/>
    <parent link="right_hand_x_link"/>
    <child link="right_hand_endeffector_link"/>
  </joint>
  <link name="right_hand_endeffector_link">
    <visual>
      <origin rpy="0 0 0" xyz="0 0 0"/>
      <geometry>
        <box size="0.001 0.001 0.001"/>
      </geometry>
      <material name="Blue"/>
    </visual>
    <collision>
      <origin rpy="0 0 0" xyz="0 0 0"/>
      <geometry>
        <box size="0.001 0.001 0.001"/>
      </geometry>
    </collision>
    <inertial>
      <mass value="0"/>
      <inertia ixx="1" ixy="0" ixz="0" iyy="1" iyz="0" izz="0"/>
      <origin xyz="0 0 0"/>
    </inertial>
  </link>
  <!--
  <link name="right_hand_object_link">
    <visual>
      <origin rpy="0 0 0" xyz="0.5 0.065 -1.6"/>
      <geometry>
        <mesh filename="package://move_itomp/meshes/door.dae"/>
      </geometry>
      <material name="Blue"/>
    </visual>
    <collision>
      <origin rpy="0 0 0" xyz="0.5 0.065 -1.6"/>
      <geometry>
        <box size="0.001 0.001 0.001"/>
      </geometry>
    </collision>
  </link>
  <joint name="door_joint" type="fixed">
    <origin rpy="3.141592 0 -1.570796" xyz="0 0 0"/>
    <parent link="right_hand_endeffector_link"/>
    <child link="right_hand_object_link"/>
  </joint>
-->
  <!--
  <link name="right_hand_object_link">
    <visual>
      <origin rpy="0 0 0" xyz="3.1245 -5.3 -1.0819"/>
      <geometry>
        <mesh filename="package://move_itomp/meshes/drawer2.dae"/>
      </geometry>
      <material name="Blue"/>
    </visual>
    <collision>
      <origin rpy="0 0 0" xyz="3.1245 -5.3 -1.0819"/>
      <geometry>
	<mesh filename="package://move_itomp/meshes/drawer2.dae"/>
      </geometry>
    </collision>
  </link>
  <link name="drawer_dummy"/>
  <joint name="drawer_joint" type="fixed">
    <origin rpy="0 -2.468985 0" xyz="0 0 0"/>
    <parent link="drawer_dummy"/>
    <child link="right_hand_object_link"/>
  </joint>
  <joint name="drawer_joint2" type="fixed">
    <origin rpy="0 0 0" xyz="0 0 0"/>
    <parent link="right_hand_endeffector_link"/>
    <child link="drawer_dummy"/>
  </joint>
-->
<link name="left_foot_cp_1_link">
    <visual>
      <origin rpy="0 0 0" xyz="0 0 0"/>
      <geometry>
        <box size="0.001 0.001 0.001"/>
      </geometry>
      <material name="Blue"/>
    </visual>
    <inertial>
      <mass value="0"/>
      <inertia ixx="1" ixy="0" ixz="0" iyy="1" iyz="0" izz="0"/>
      <origin xyz="0 0 0"/>
    </inertial>
  </link>
  <link name="left_foot_cp_2_link">
    <visual>
      <origin rpy="0 0 0" xyz="0 0 0"/>
      <geometry>
        <box size="0.001 0.001 0.001"/>
      </geometry>
      <material name="Blue"/>
    </visual>
    <inertial>
      <mass value="0"/>
      <inertia ixx="1" ixy="0" ixz="0" iyy="1" iyz="0" izz="0"/>
      <origin xyz="0 0 0"/>
    </inertial>
  </link>
  <link name="left_foot_cp_3_link">
    <visual>
      <origin rpy="0 0 0" xyz="0 0 0"/>
      <geometry>
        <box size="0.001 0.001 0.001"/>
      </geometry>
      <material name="Blue"/>
    </visual>
    <inertial>
      <mass value="0"/>
      <inertia ixx="1" ixy="0" ixz="0" iyy="1" iyz="0" izz="0"/>
      <origin xyz="0 0 0"/>
    </inertial>
  </link>
  <link name="left_foot_cp_4_link">
    <visual>
      <origin rpy="0 0 0" xyz="0 0 0"/>
      <geometry>
        <box size="0.001 0.001 0.001"/>
      </geometry>
      <material name="Blue"/>
    </visual>
    <inertial>
      <mass value="0"/>
      <inertia ixx="1" ixy="0" ixz="0" iyy="1" iyz="0" izz="0"/>
      <origin xyz="0 0 0"/>
    </inertial>
  </link>
  <joint name="left_foot_cp_1_joint" type="revolute">
    <axis xyz="0 0 1"/>
    <limit effort="15" lower="0" upper="0" velocity="5"/>
    <origin rpy="0 0 0" xyz="-0.05 -0.05 -0.1"/>
    <parent link="left_foot_z_link"/>
    <child link="left_foot_cp_1_link"/>
  </joint>
  <joint name="left_foot_cp_2_joint" type="revolute">
    <axis xyz="0 0 1"/>
    <limit effort="15" lower="0" upper="0" velocity="5"/>
    <origin rpy="0 0 0" xyz="0.05 -0.05 -0.1"/>
    <parent link="left_foot_z_link"/>
    <child link="left_foot_cp_2_link"/>
  </joint>
  <joint name="left_foot_cp_3_joint" type="revolute">
    <axis xyz="0 0 1"/>
    <limit effort="15" lower="0" upper="0" velocity="5"/>
    <origin rpy="0 0 0" xyz="0.05 0.2 -0.1"/>
    <parent link="left_foot_z_link"/>
    <child link="left_foot_cp_3_link"/>
  </joint>
  <joint name="left_foot_cp_4_joint" type="revolute">
    <axis xyz="0 0 1"/>
    <limit effort="15" lower="0" upper="0" velocity="5"/>
    <origin rpy="0 0 0" xyz="-0.05 0.2 -0.1"/>
    <parent link="left_foot_z_link"/>
    <child link="left_foot_cp_4_link"/>
  </joint>
<link name="right_foot_cp_1_link">
    <visual>
      <origin rpy="0 0 0" xyz="0 0 0"/>
      <geometry>
        <box size="0.001 0.001 0.001"/>
      </geometry>
      <material name="Blue"/>
    </visual>
    <inertial>
      <mass value="0"/>
      <inertia ixx="1" ixy="0" ixz="0" iyy="1" iyz="0" izz="0"/>
      <origin xyz="0 0 0"/>
    </inertial>
  </link>
  <link name="right_foot_cp_2_link">
    <visual>
      <origin rpy="0 0 0" xyz="0 0 0"/>
      <geometry>
        <box size="0.001 0.001 0.001"/>
      </geometry>
      <material name="Blue"/>
    </visual>
    <inertial>
      <mass value="0"/>
      <inertia ixx="1" ixy="0" ixz="0" iyy="1" iyz="0" izz="0"/>
      <origin xyz="0 0 0"/>
    </inertial>
  </link>
  <link name="right_foot_cp_3_link">
    <visual>
      <origin rpy="0 0 0" xyz="0 0 0"/>
      <geometry>
        <box size="0.001 0.001 0.001"/>
      </geometry>
      <material name="Blue"/>
    </visual>
    <inertial>
      <mass value="0"/>
      <inertia ixx="1" ixy="0" ixz="0" iyy="1" iyz="0" izz="0"/>
      <origin xyz="0 0 0"/>
    </inertial>
  </link>
  <link name="right_foot_cp_4_link">
    <visual>
      <origin rpy="0 0 0" xyz="0 0 0"/>
      <geometry>
        <box size="0.001 0.001 0.001"/>
      </geometry>
      <material name="Blue"/>
    </visual>
    <inertial>
      <mass value="0"/>
      <inertia ixx="1" ixy="0" ixz="0" iyy="1" iyz="0" izz="0"/>
      <origin xyz="0 0 0"/>
    </inertial>
  </link>
  <joint name="right_foot_cp_1_joint" type="revolute">
    <axis xyz="0 0 1"/>
    <limit effort="15" lower="0" upper="0" velocity="5"/>
    <origin rpy="0 0 0" xyz="-0.05 -0.05 -0.1"/>
    <parent link="right_foot_z_link"/>
    <child link="right_foot_cp_1_link"/>
  </joint>
  <joint name="right_foot_cp_2_joint" type="revolute">
    <axis xyz="0 0 1"/>
    <limit effort="15" lower="0" upper="0" velocity="5"/>
    <origin rpy="0 0 0" xyz="0.05 -0.05 -0.1"/>
    <parent link="right_foot_z_link"/>
    <child link="right_foot_cp_2_link"/>
  </joint>
  <joint name="right_foot_cp_3_joint" type="revolute">
    <axis xyz="0 0 1"/>
    <limit effort="15" lower="0" upper="0" velocity="5"/>
    <origin rpy="0 0 0" xyz="0.05 0.2 -0.1"/>
    <parent link="right_foot_z_link"/>
    <child link="right_foot_cp_3_link"/>
  </joint>
  <joint name="right_foot_cp_4_joint" type="revolute">
    <axis xyz="0 0 1"/>
    <limit effort="15" lower="0" upper="0" velocity="5"/>
    <origin rpy="0 0 0" xyz="-0.05 0.2 -0.1"/>
    <parent link="right_foot_z_link"/>
    <child link="right_foot_cp_4_link"/>
  </joint>
</robot>
